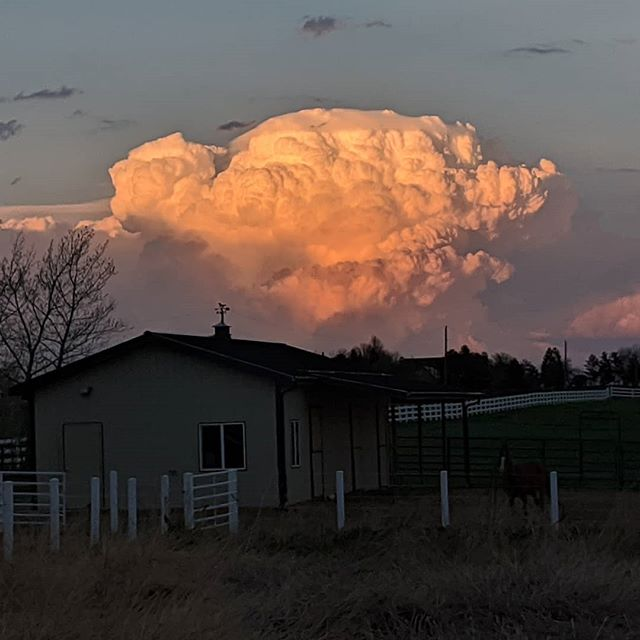animal: (489, 451, 562, 522)
building: (29, 341, 366, 513)
grass: (17, 529, 640, 640)
sky: (1, 1, 625, 337)
tree: (1, 228, 109, 383)
